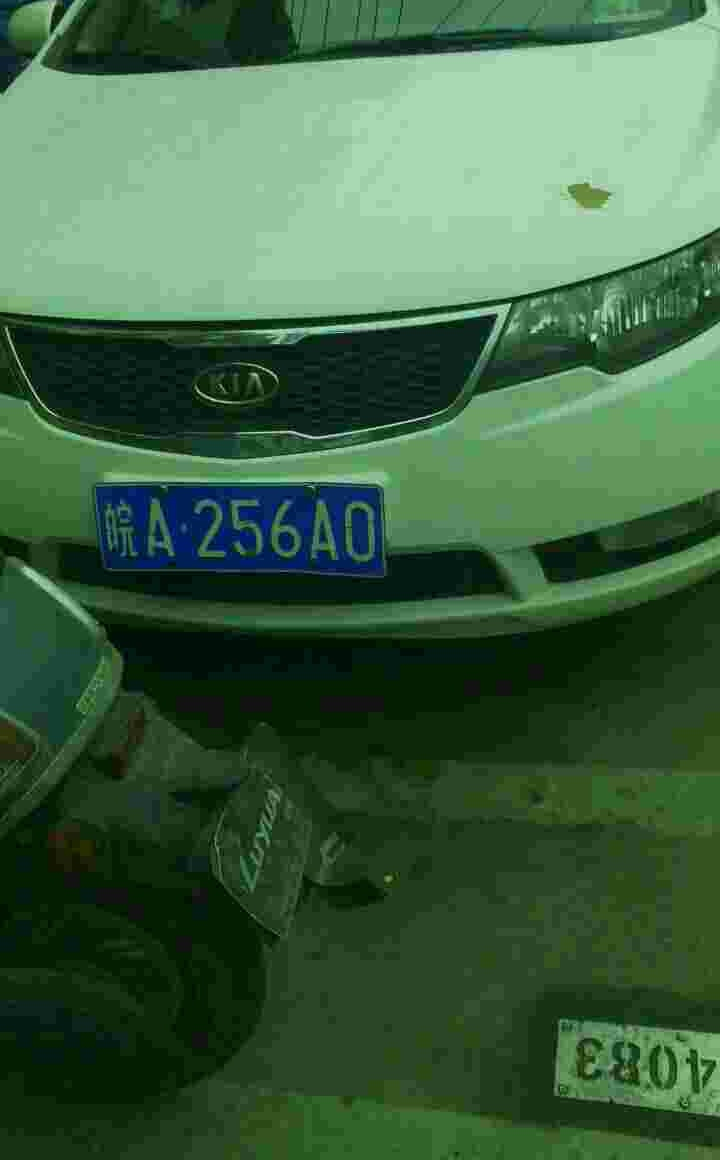license_plate: (92, 483, 385, 584)
